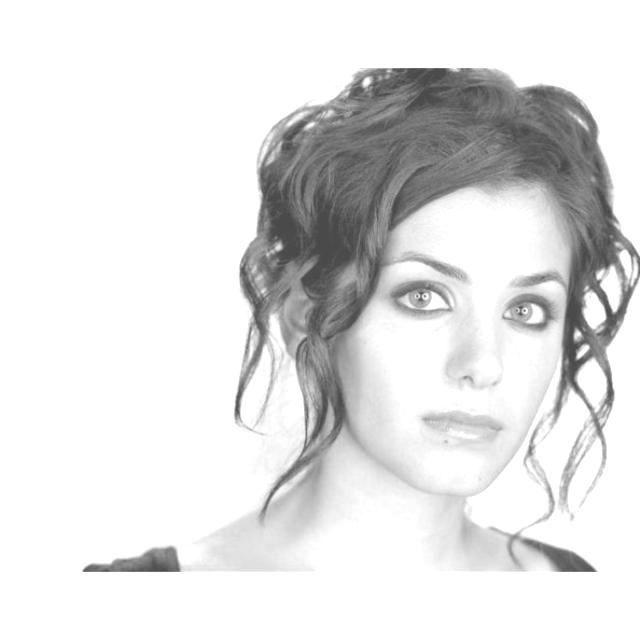real: (322, 158, 599, 498)
